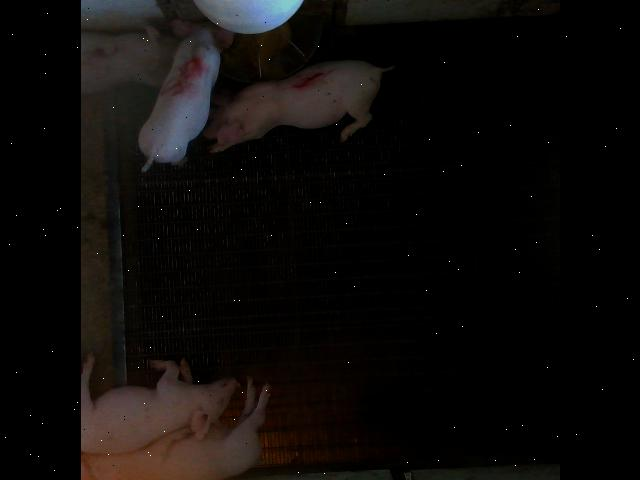pig-1: (203, 60, 392, 152)
pig-3: (82, 26, 179, 94)
pig-5: (138, 20, 232, 171)
